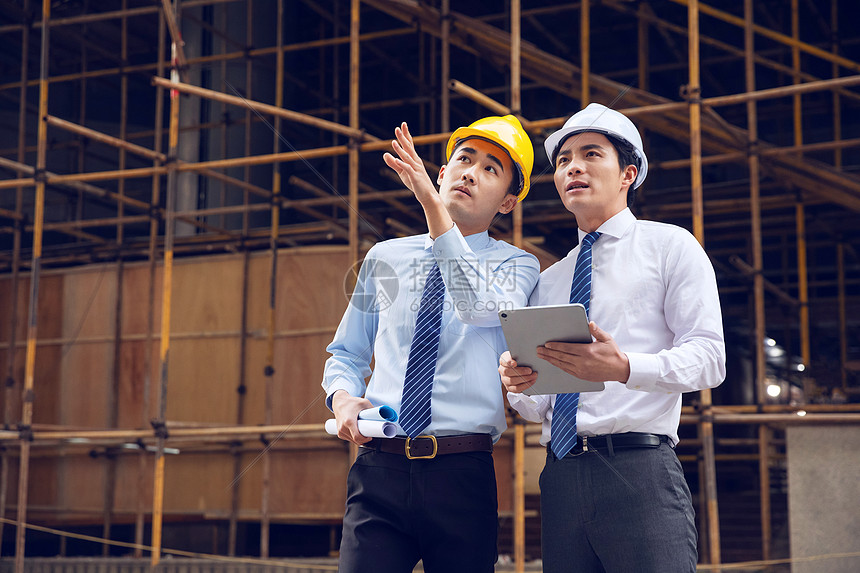safetyhat: (315, 82, 539, 519), (537, 80, 744, 509)
